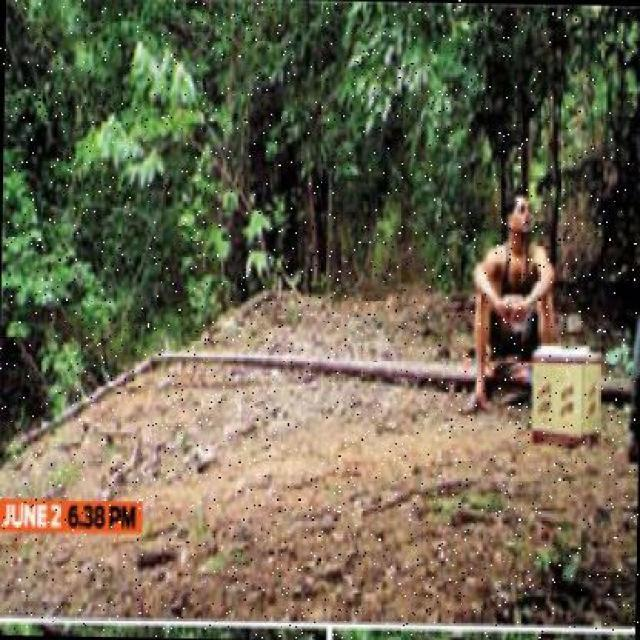poacher: (434, 122, 616, 435)
